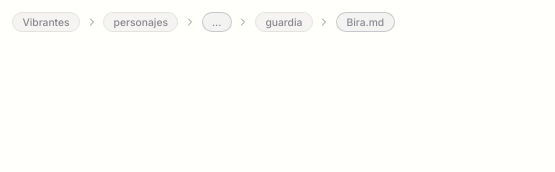
Test: Breadcrumb › ellipsis expands to the full list and collapses back
Click the button named "Mostrar todos los niveles" at (217, 22), box [202,12,232,32]
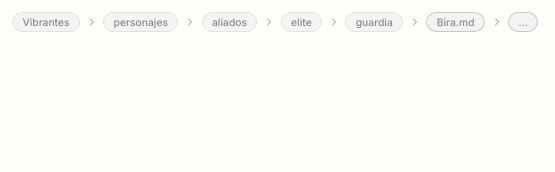
Now the button "aliados" is shown, box [202,12,257,32]
Now the button "elite" is shown, box [281,12,322,32]
Note: Collapse back
Click the button named "Ocultar niveles intermedios" at (523, 22), box [508,12,538,32]
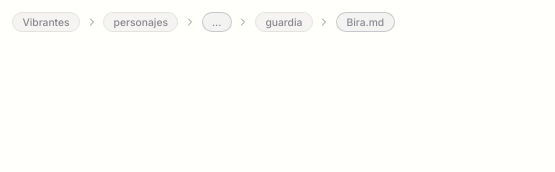
Now the button "aliados" is gone
